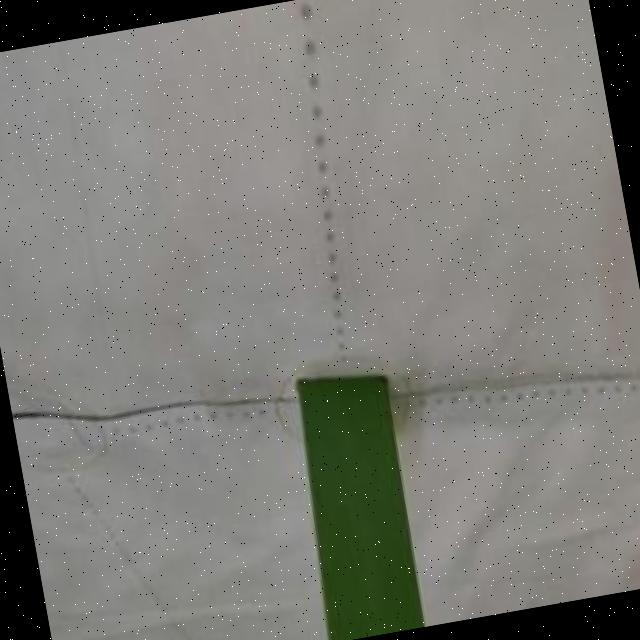greenbox: (282, 363, 431, 640)
